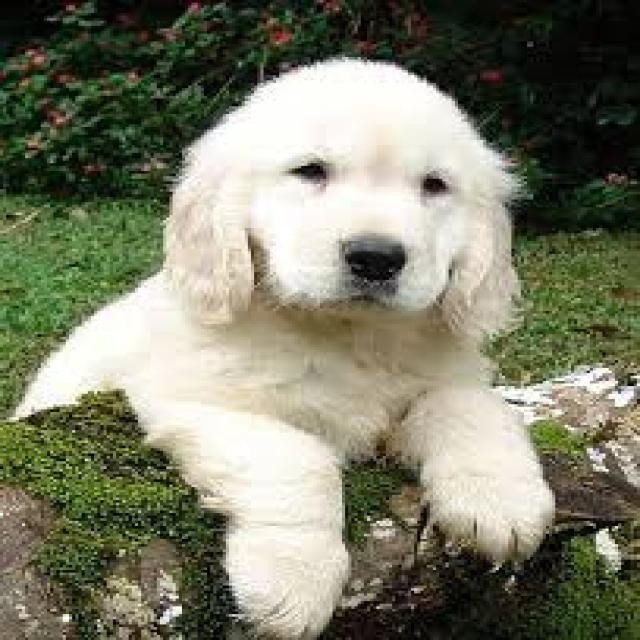dogs: (119, 65, 584, 640)
